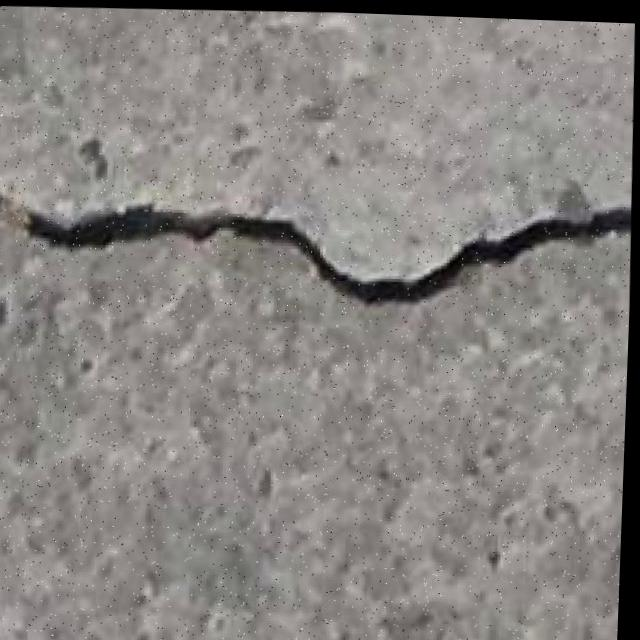Crack: (0, 143, 636, 333)
